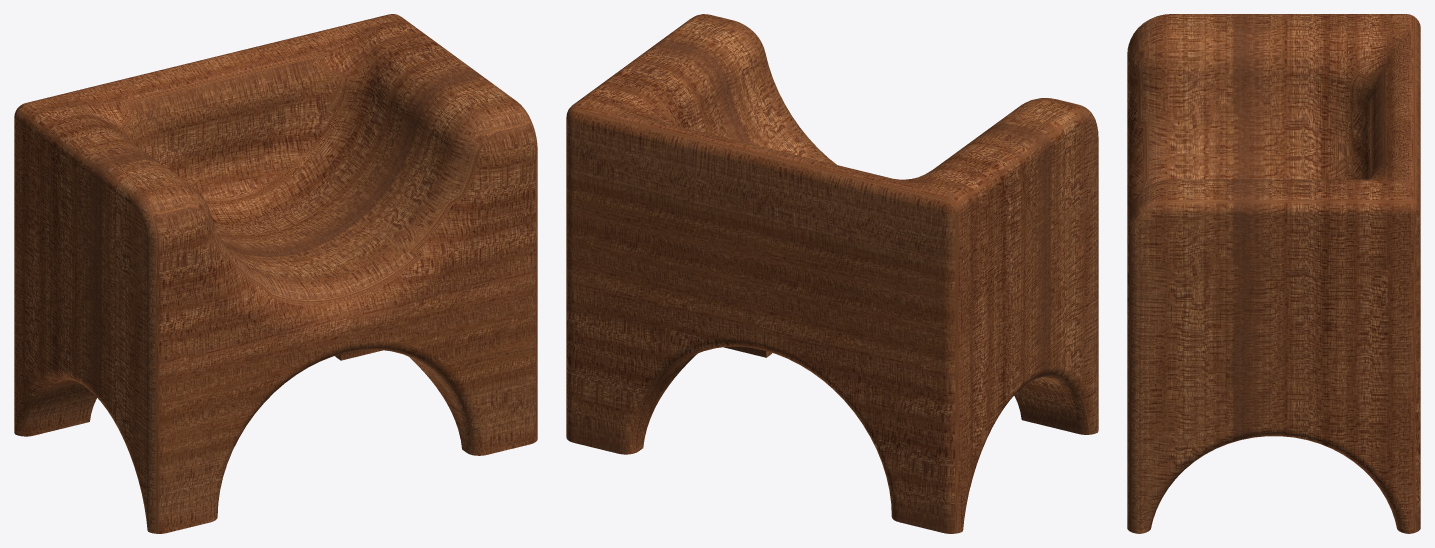
The model's file is chairdesignone.glb.
3 views of the same model, side by side, from view 1: azimuth 30°, elevation 25°; view 2: azimuth 150°, elevation 25°; view 3: azimuth 270°, elevation 25° (orthographic).
Visible parts, largest first — view 1: ChairDesignOne.SLDPRT; view 2: ChairDesignOne.SLDPRT; view 3: ChairDesignOne.SLDPRT.
Part boxes in pixels (left/top/right/bottom): ChairDesignOne.SLDPRT: left=14, top=14, right=537, bottom=533; ChairDesignOne.SLDPRT: left=566, top=14, right=1098, bottom=533; ChairDesignOne.SLDPRT: left=1127, top=14, right=1420, bottom=533.
Size of the model in its own units: 0.155 by 0.125 by 0.1.
1 material, 1 textured.
